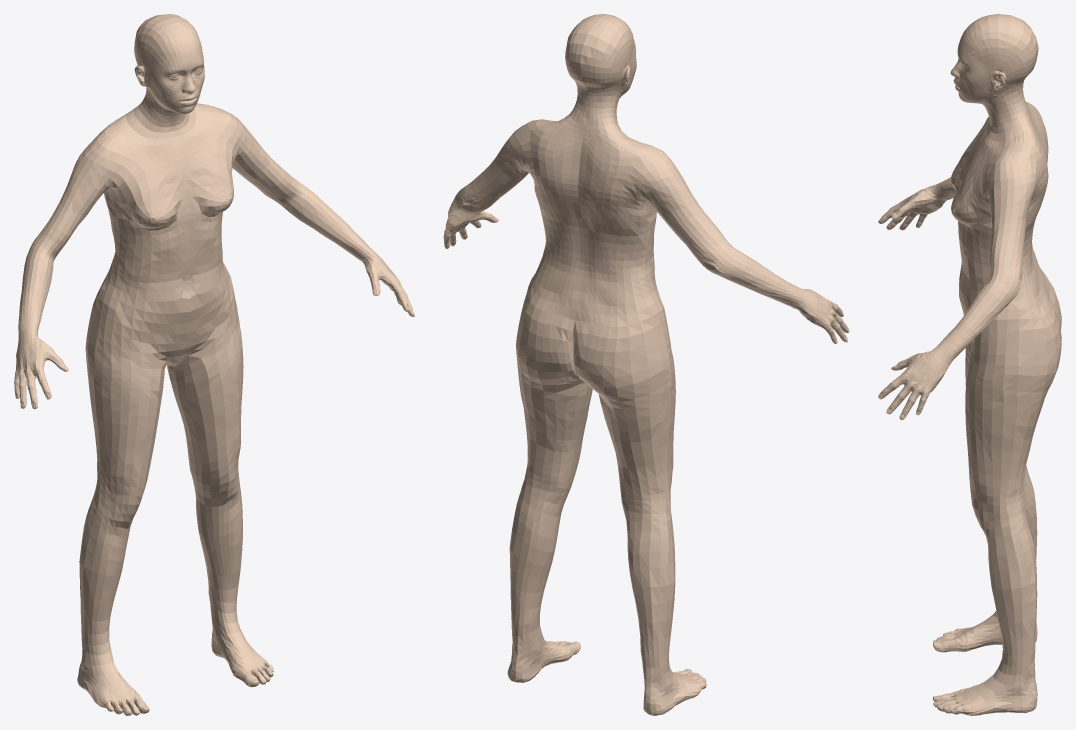
The model's file is female-adult-average-low.glb.
3 renders of one model, left to right at view 1: azimuth 30°, elevation 25°; view 2: azimuth 150°, elevation 25°; view 3: azimuth 270°, elevation 25°, orthographic.
Parts seen in each view (by area): view 1: world; view 2: world; view 3: world.
Boxes of the visible parts, x1,y1,x2,y2 form: world: [14, 14, 414, 715]; world: [443, 14, 849, 715]; world: [878, 14, 1061, 715].
Bounding box in the file's own units: 1.12 × 1.81 × 0.4561.
